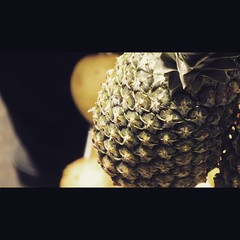Pineapple: (91, 52, 238, 188)
